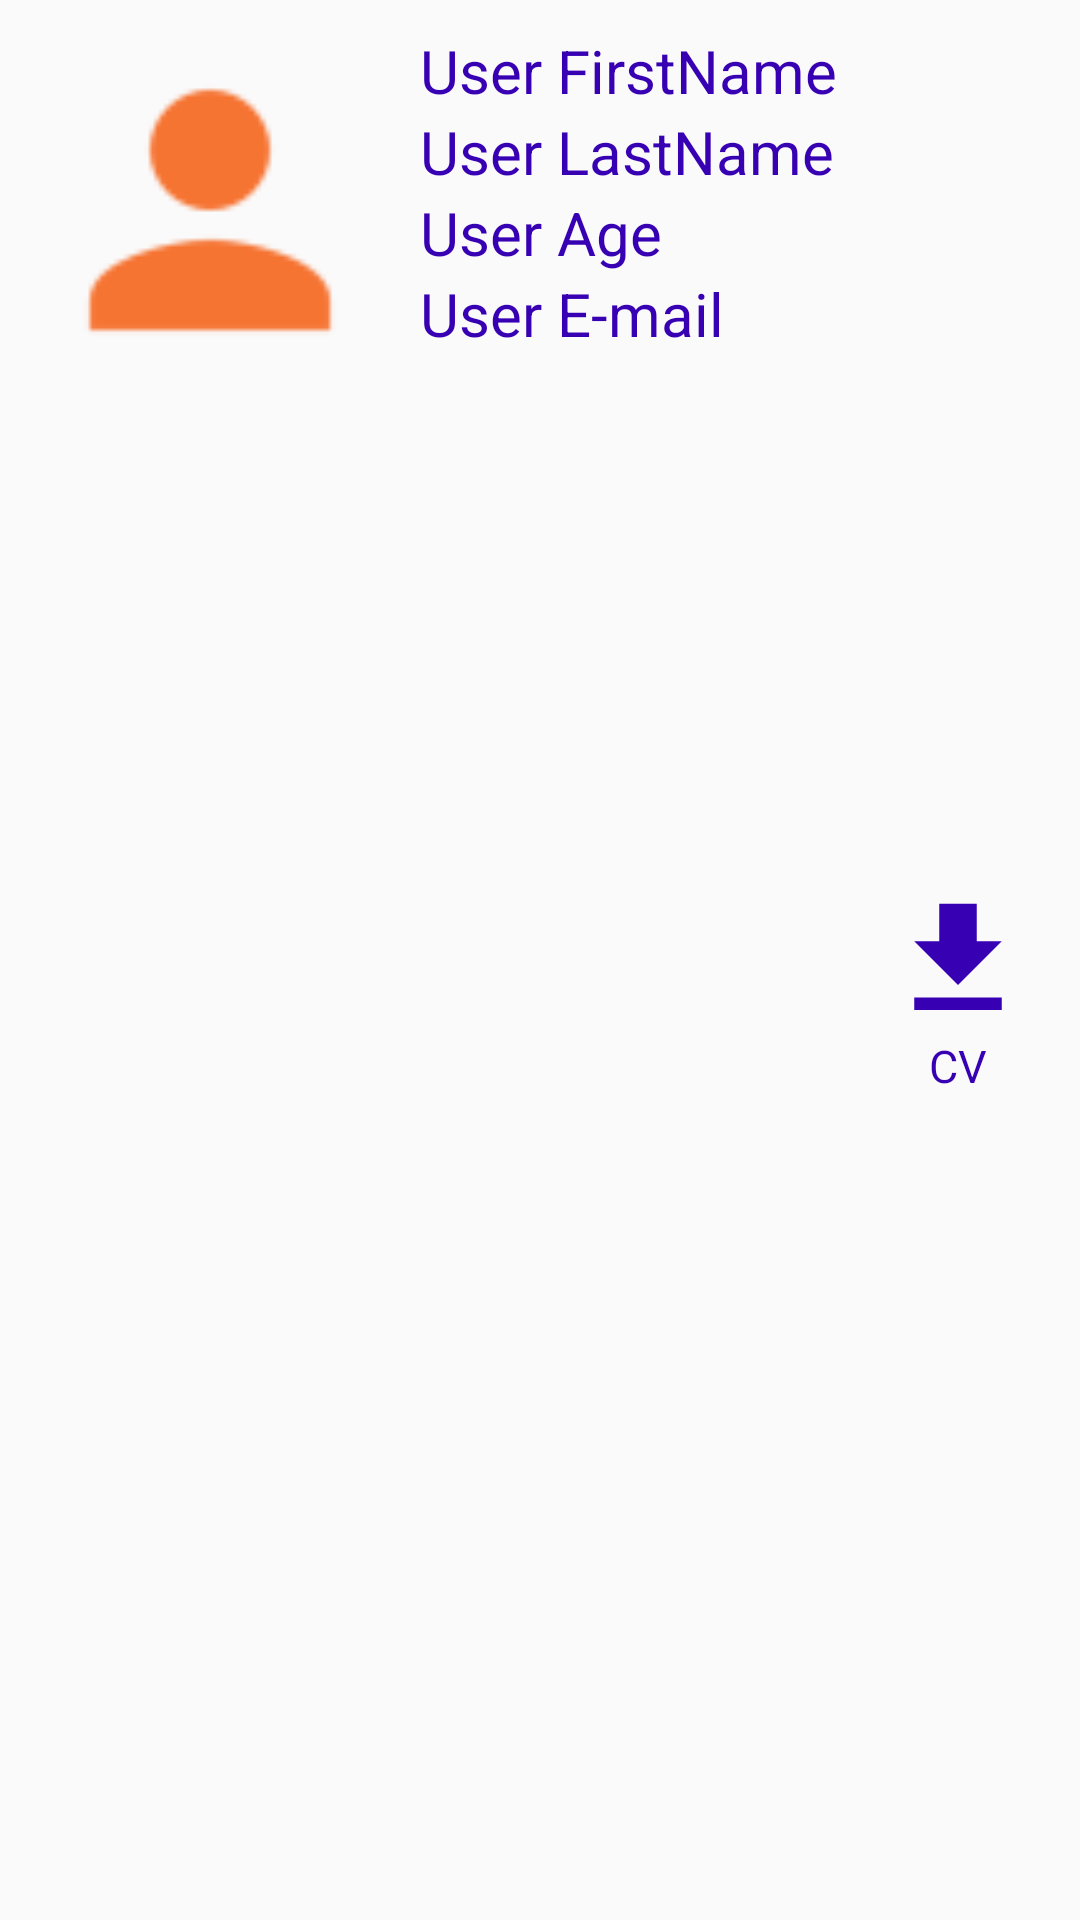

Icons on this 1080x1920 Android screen, each with the point to tap as point (x, y):
download: point (958, 956)
person: point (210, 210)
